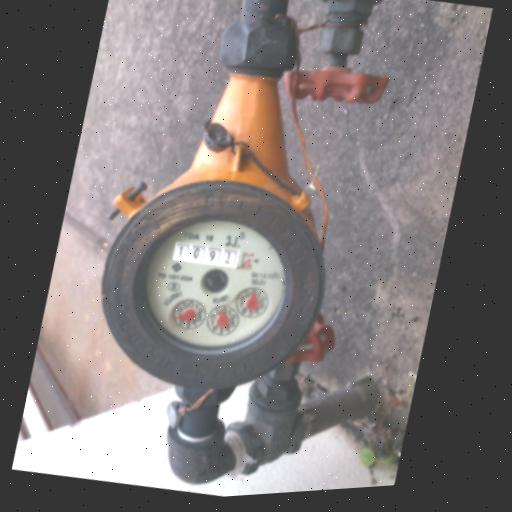0: (191, 245, 205, 262)
1: (223, 249, 238, 266), (175, 243, 189, 260)
4: (240, 252, 254, 270)
9: (206, 247, 221, 264)
border_water_meter_number: (171, 237, 256, 276)
